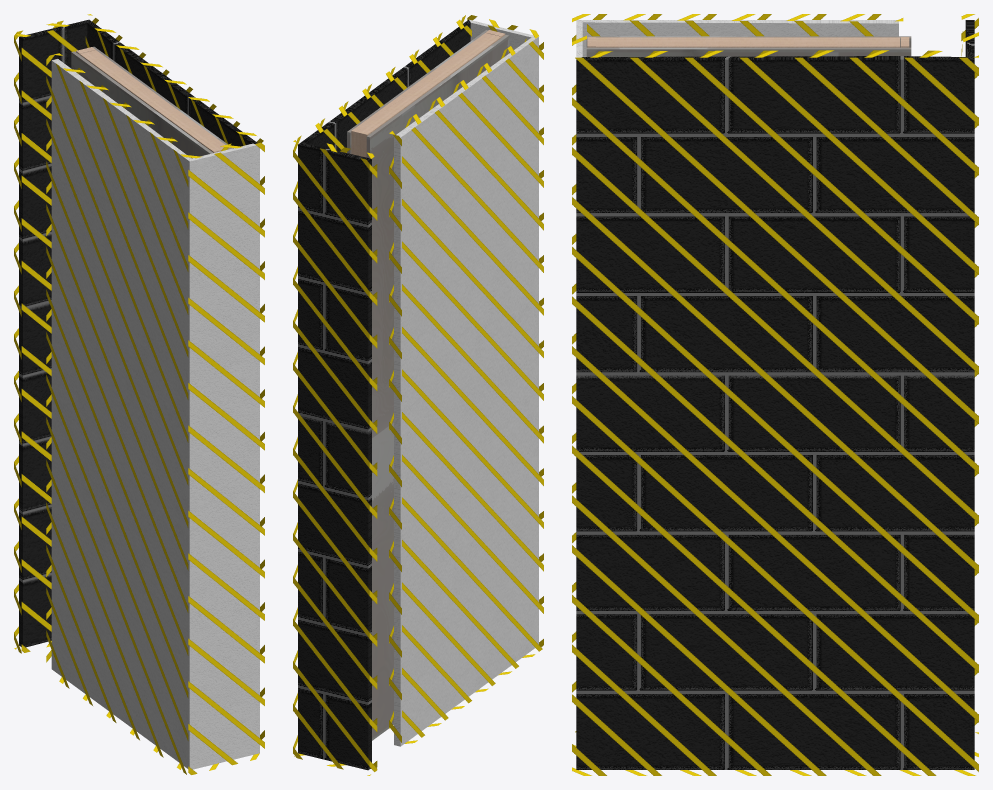
File: WALLSET_F.FBX
3 views of the same model, side by side, from view 1: azimuth 30°, elevation 25°; view 2: azimuth 150°, elevation 25°; view 3: azimuth 270°, elevation 25° (orthographic). The views are drawn at different scales.
Visible parts, largest first — view 1: WALL_SET_03, SELECTOR_08, DRYWALL_11, FRAME_66; view 2: WALL_SET_03, SELECTOR_08, DRYWALL_11, FRAME_66; view 3: WALL_SET_03, SELECTOR_08, FRAME_66, DRYWALL_11.
Boxes of the visible parts, x1=… form: WALL_SET_03: x1=19, y1=19, x2=259, y2=769; SELECTOR_08: x1=14, y1=14, x2=264, y2=774; DRYWALL_11: x1=71, y1=46, x2=232, y2=156; FRAME_66: x1=76, y1=47, x2=229, y2=152; WALL_SET_03: x1=298, y1=19, x2=538, y2=770; SELECTOR_08: x1=293, y1=15, x2=543, y2=775; DRYWALL_11: x1=347, y1=30, x2=509, y2=740; FRAME_66: x1=351, y1=30, x2=505, y2=157; WALL_SET_03: x1=576, y1=20, x2=974, y2=769; SELECTOR_08: x1=572, y1=14, x2=978, y2=775; FRAME_66: x1=587, y1=37, x2=909, y2=47; DRYWALL_11: x1=586, y1=36, x2=911, y2=56.
Size of the model in its own units: 11.75 by 90.28 by 46.35.
